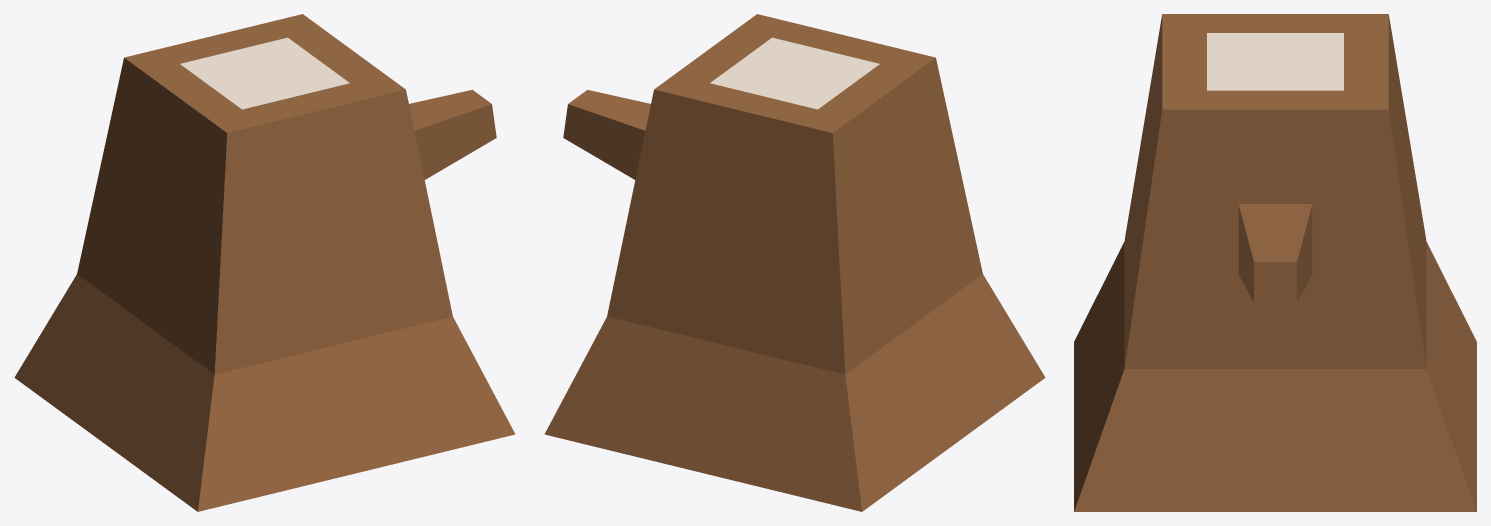
The model's file is stump_square.glb.
3 views of the same model, side by side, from view 1: azimuth 30°, elevation 25°; view 2: azimuth 150°, elevation 25°; view 3: azimuth 270°, elevation 25° (orthographic). The views are drawn at different scales.
Parts seen in each view (by area): view 1: stump_square; view 2: stump_square; view 3: stump_square.
Part boxes in pixels (left/top/right/bottom): stump_square: left=14, top=14, right=515, bottom=511; stump_square: left=544, top=14, right=1045, bottom=511; stump_square: left=1074, top=14, right=1476, bottom=511.
Size of the model in its own units: 0.3596 by 0.3 by 0.3.
